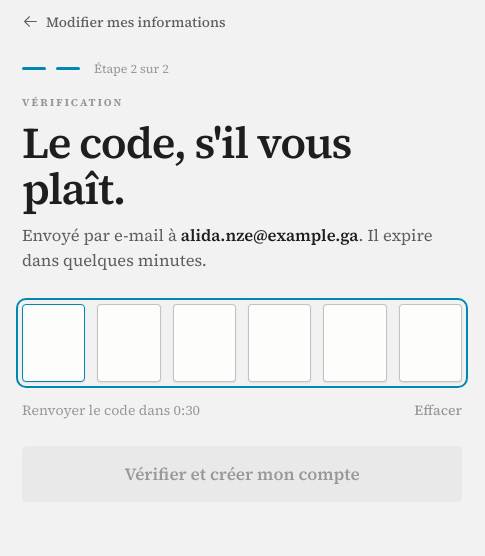
Test case: OtpVerificationPage › rend le renvoi disponible immédiatement si le code a expiré
This screenshot has width=485, height=556.
Type "123456" into the field named "Code à six chiffres" at {"x": 242, "y": 343}, box [22,304,462,382]
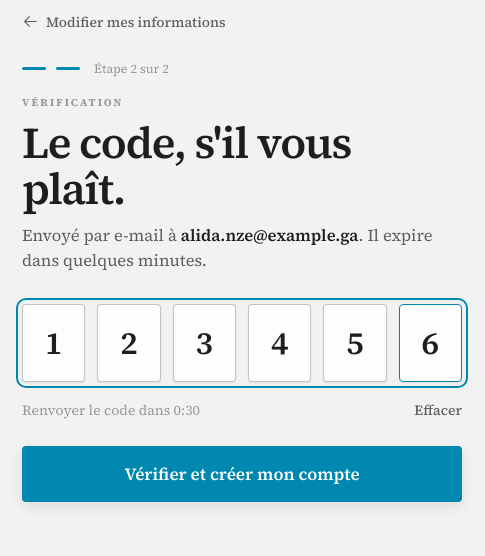
Click the button "Vérifier et créer mon compte" at {"x": 242, "y": 474}, box [22,446,462,502]
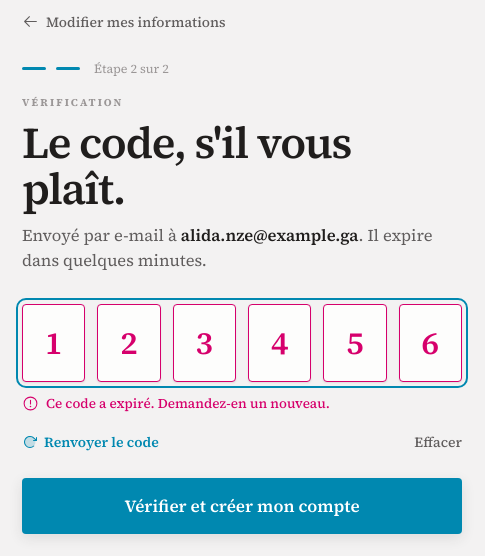
Expected: the button "Renvoyer le code" is shown, [22,432,159,452]
Now the message reads "Ce code a expiré. Demandez-en un nouveau.", box [46,394,330,413]
